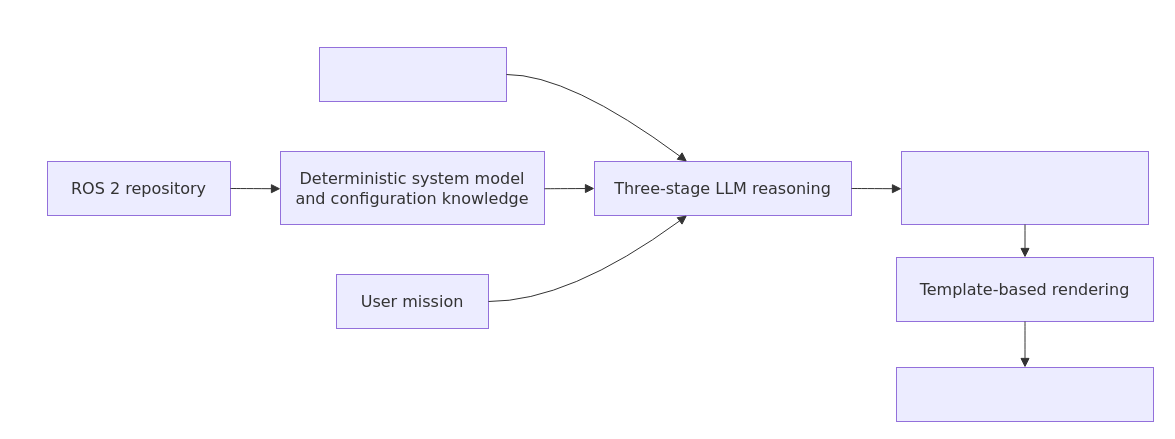
Image size: 1175x439. Some labels were removed from this diagram. Here are the shapes that lost their labels. From the top down, the centre of each, then its label:
the point at 412,74: Capability registry
the point at 1024,187: Deterministic realization and validation
the point at 1025,394: ROS 2 configuration bundle
